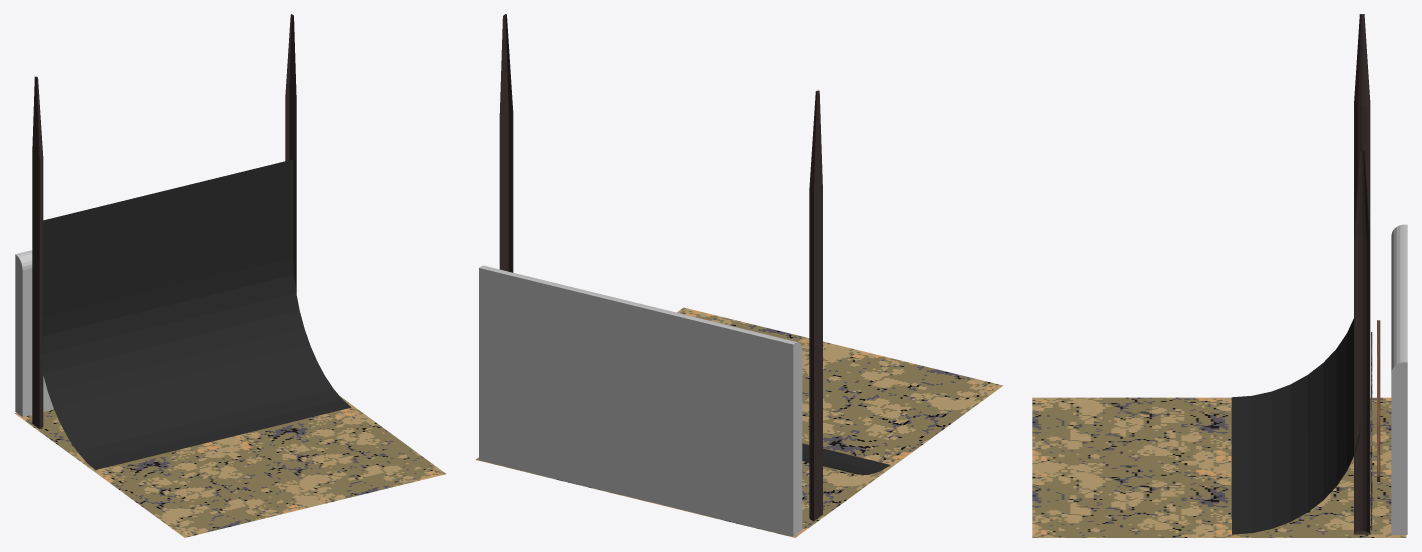
Rendered from Arena_side.fbx.
3 views of the same model, side by side, from view 1: azimuth 30°, elevation 25°; view 2: azimuth 150°, elevation 25°; view 3: azimuth 270°, elevation 25° (orthographic). The views are drawn at different scales.
Visible parts, largest first — view 1: hegn, jord, pigge, væg; view 2: væg, jord, pigge, hegn; view 3: jord, hegn, pigge, væg, planke2.
Boxes of the visible parts, x1=… form: hegn: x1=39, y1=159, x2=351, y2=469; jord: x1=15, y1=396, x2=445, y2=537; pigge: x1=32, y1=14, x2=296, y2=428; væg: x1=15, y1=250, x2=53, y2=416; væg: x1=479, y1=265, x2=802, y2=536; jord: x1=476, y1=307, x2=1003, y2=537; pigge: x1=499, y1=14, x2=822, y2=520; hegn: x1=802, y1=443, x2=890, y2=474; jord: x1=1032, y1=397, x2=1406, y2=537; hegn: x1=1231, y1=318, x2=1361, y2=534; pigge: x1=1354, y1=14, x2=1370, y2=534; væg: x1=1391, y1=224, x2=1407, y2=534; planke2: x1=1377, y1=320, x2=1380, y2=481.
Size of the model in its own units: 998 by 1282 by 1128.
